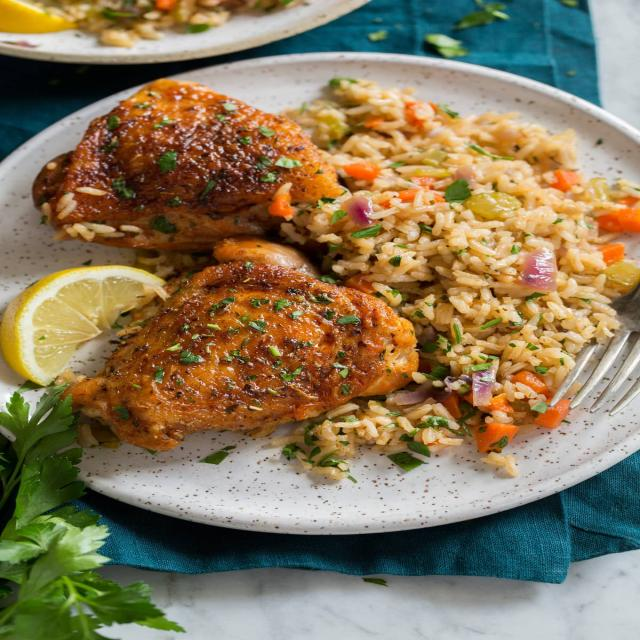Chicken: (33, 79, 418, 449)
Green veg: (0, 386, 182, 640)
Rice: (273, 79, 639, 480), (135, 250, 211, 294)
